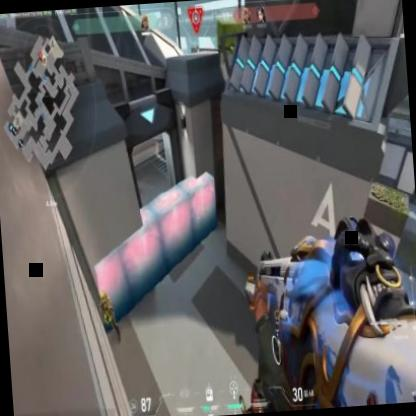enemy: (98, 289, 122, 344)
enemy_head: (100, 290, 107, 302)
